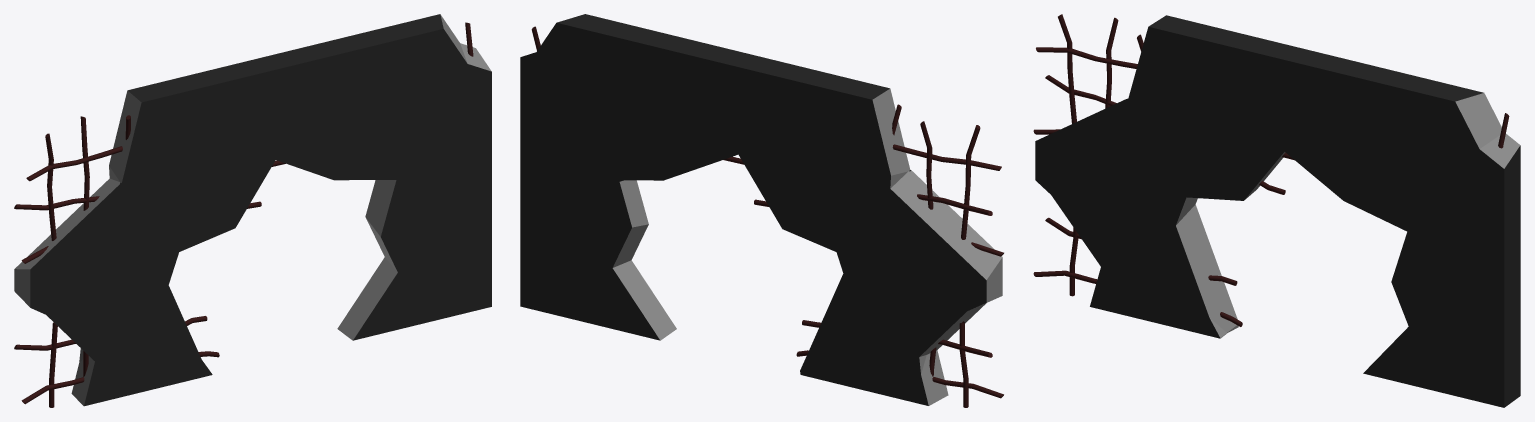
The model's file is P_MurCasséPORTEtest1.FBX.
3 renders of one model, left to right at view 1: azimuth 30°, elevation 25°; view 2: azimuth 150°, elevation 25°; view 3: azimuth 330°, elevation 25°, orthographic.
Parts seen in each view (by area): view 1: Box010_Part_16; view 2: Box010_Part_16; view 3: Box010_Part_16.
Part boxes in pixels (box(x1,y1,x2,y2)): Box010_Part_16: box(14, 14, 491, 407); Box010_Part_16: box(520, 14, 1003, 407); Box010_Part_16: box(1033, 14, 1520, 407).
Size of the model in its own units: 505 by 30 by 300.
